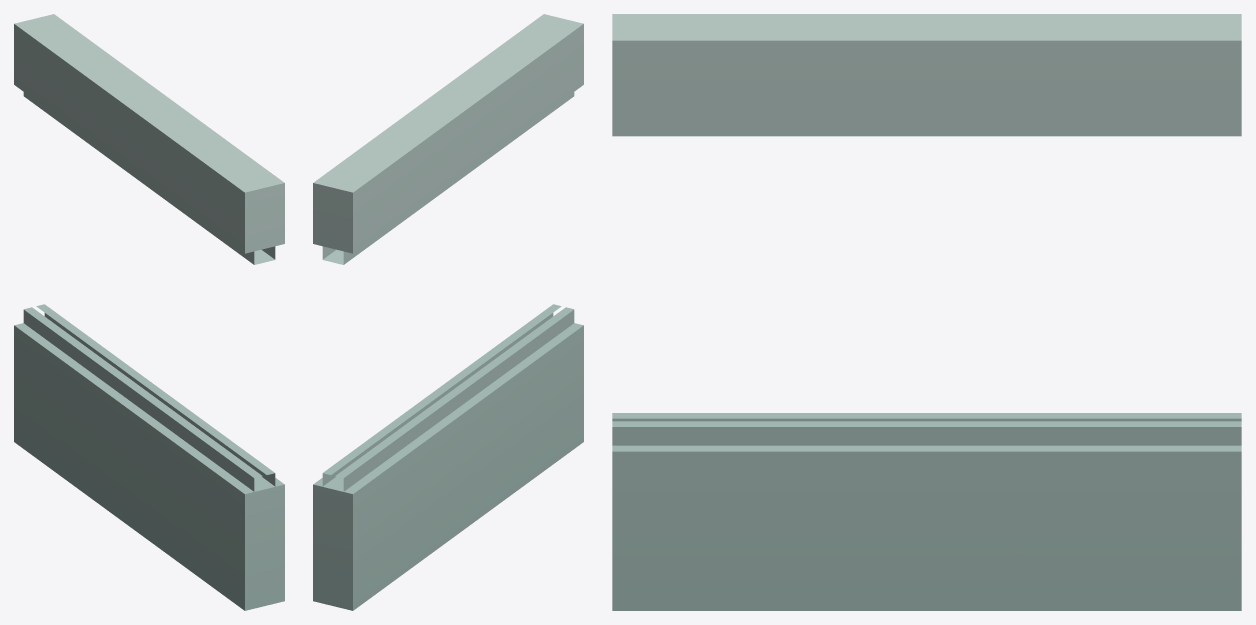
File: panoramic-window-middle.glb
3 views of the same model, side by side, from view 1: azimuth 30°, elevation 25°; view 2: azimuth 150°, elevation 25°; view 3: azimuth 270°, elevation 25° (orthographic). The views are drawn at different scales.
Visible parts, largest first — view 1: PanoramicWindowMiddle; view 2: PanoramicWindowMiddle; view 3: PanoramicWindowMiddle.
Boxes of the visible parts, bbox=[...] form: PanoramicWindowMiddle: bbox=[14, 14, 284, 610]; PanoramicWindowMiddle: bbox=[313, 14, 583, 610]; PanoramicWindowMiddle: bbox=[612, 14, 1241, 610].
Bounding box in the file's own units: 0.2 × 2 × 2.
Materials: 1 (1 with a texture image).
